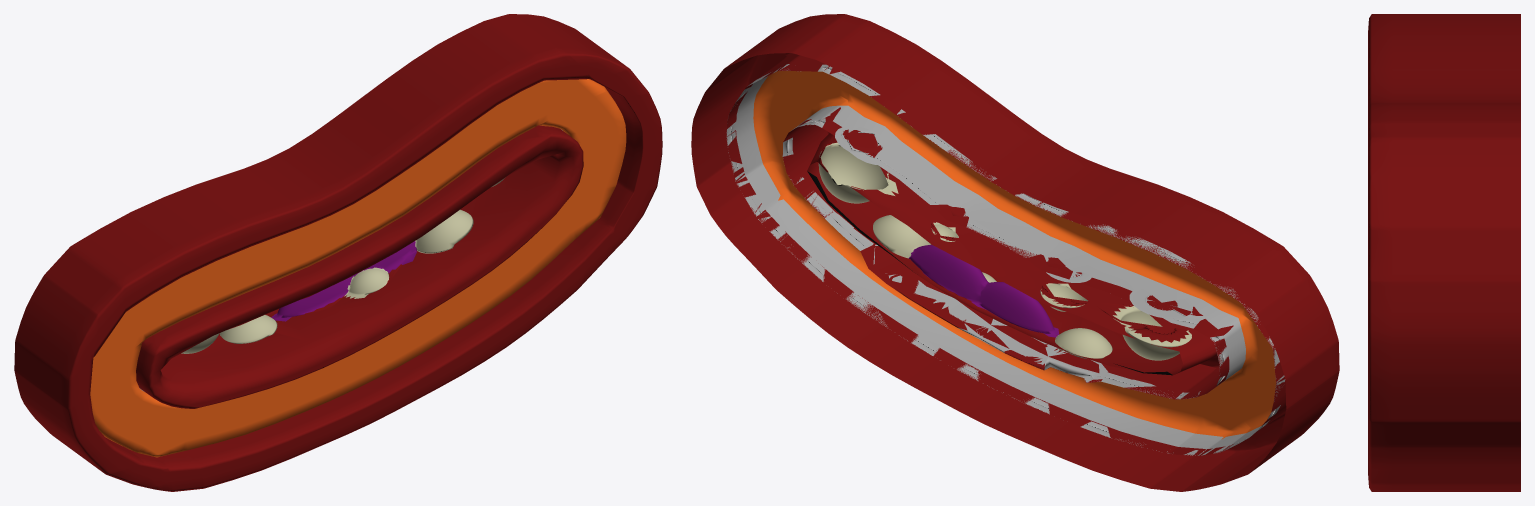
The model's file is orangeLips2.fbx.
3 renders of one model, left to right at view 1: azimuth 30°, elevation 25°; view 2: azimuth 150°, elevation 25°; view 3: azimuth 270°, elevation 25°, orthographic. The views are drawn at different scales.
Parts seen in each view (by area): view 1: pSphere11; view 2: pSphere11; view 3: pSphere11.
Boxes of the visible parts, left/top/right/bottom form: pSphere11: left=14, top=14, right=662, bottom=491; pSphere11: left=691, top=14, right=1339, bottom=491; pSphere11: left=1368, top=14, right=1520, bottom=491.
Bounding box in the file's own units: 6.28 × 3.51 × 1.
